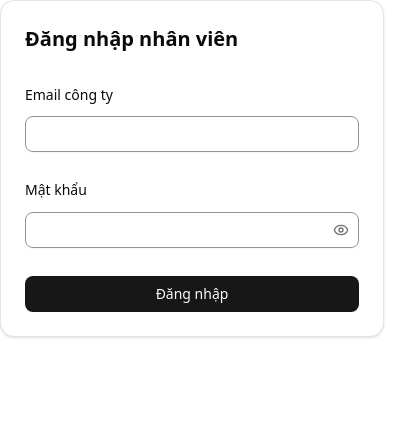
Test case: answers of Firebase › auth/invalid-credential shows its message
Expected: the button "Đăng nhập" is enabled, [25, 276, 359, 312]
Type "nhanvien@zengear.test" into the field labelled "Email công ty" at (192,134), box [25, 116, 359, 152]
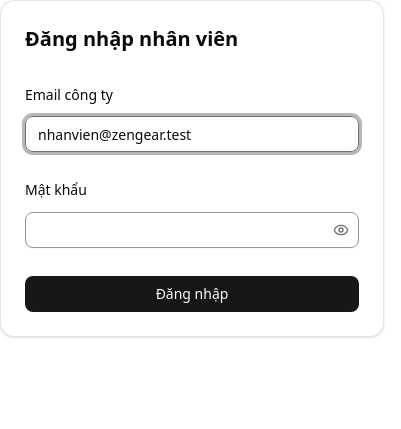
Type "mat-khau-cua-toi" into the password field labelled "Mật khẩu" at (178,230), box [26, 212, 329, 248]
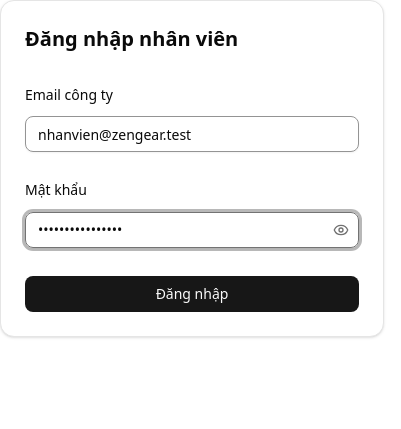
Click the button "Đăng nhập" at (192,294), box [25, 276, 359, 312]
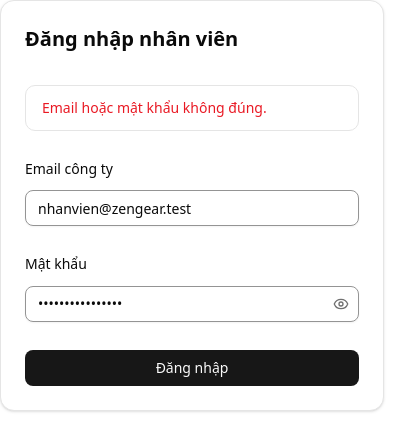
Now the message reads "Email hoặc mật khẩu không đúng.", box [42, 98, 267, 117]
